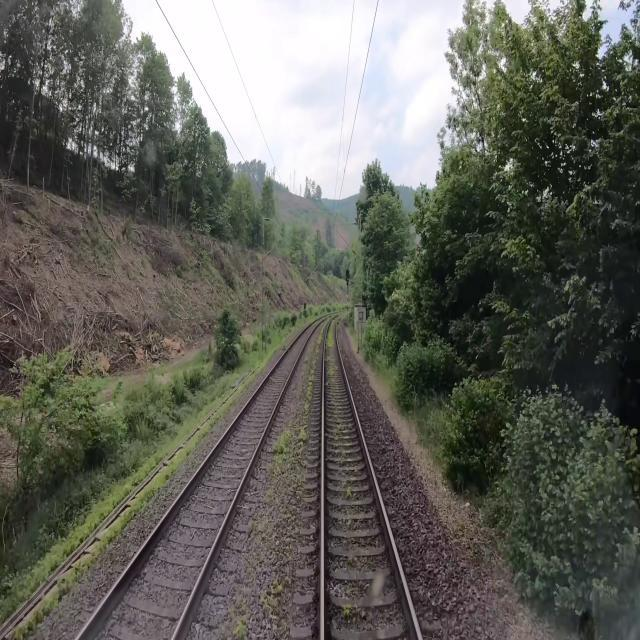Plant: (266, 320, 329, 502), (258, 580, 290, 639), (231, 605, 249, 638), (327, 318, 336, 347)
